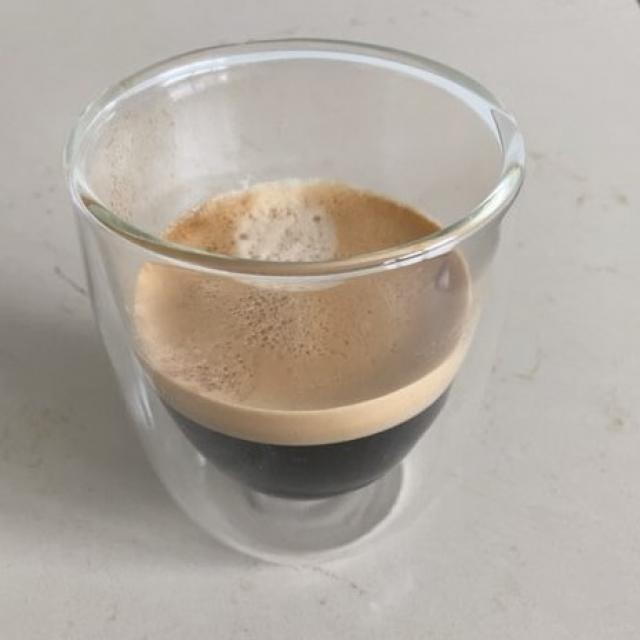risotto: (145, 184, 468, 510)
